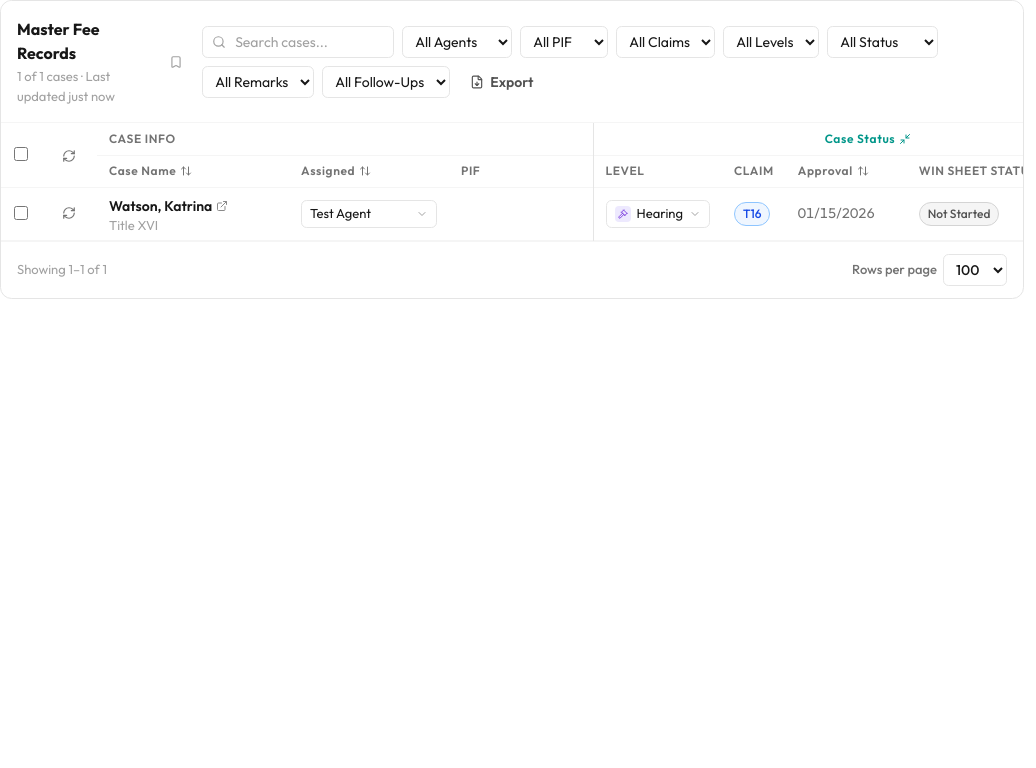
Scenario: FeeRecordsTable — Add to Fee Petitions batch action › is available to a member, who gets the add button but no admin-only actions
The width and height of the screenshot is (1036, 768).
Click the checkbox named "Select Watson, Katrina".
click(21, 212)  # box [14,206,28,220]
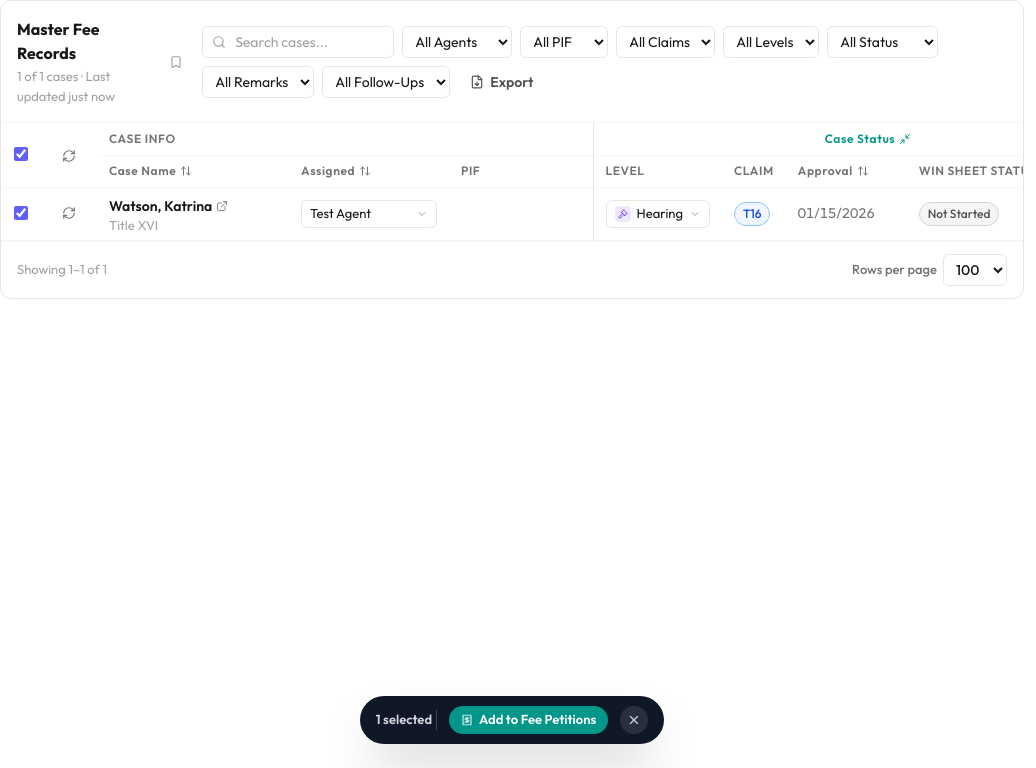
Expected: the button "Add to Fee Petitions" is shown, [449,706,608,734]
Expected: the text "1 selected" is shown, [376,710,437,730]
